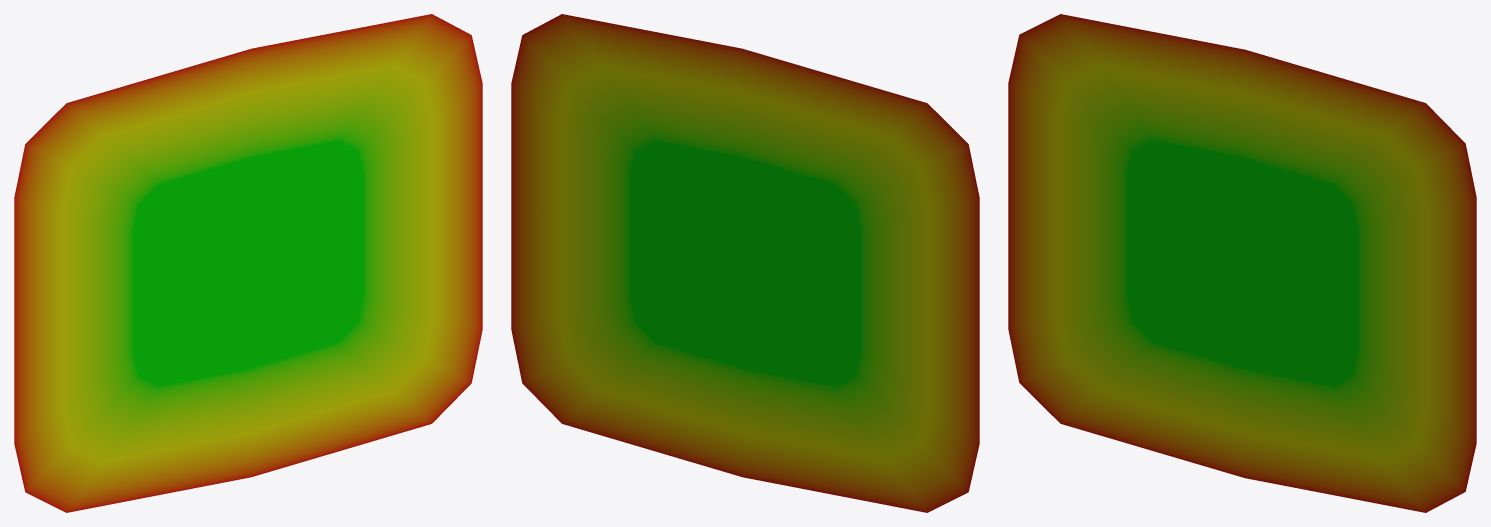
The model's file is SwimmingPoolWater.fbx.
3 views of the same model, side by side, from view 1: azimuth 30°, elevation 25°; view 2: azimuth 150°, elevation 25°; view 3: azimuth 330°, elevation 25° (orthographic).
Parts seen in each view (by area): view 1: SwimmingPoolWater; view 2: SwimmingPoolWater; view 3: SwimmingPoolWater.
Boxes of the visible parts, bbox=[...] form: SwimmingPoolWater: bbox=[14, 14, 482, 512]; SwimmingPoolWater: bbox=[511, 14, 979, 512]; SwimmingPoolWater: bbox=[1008, 14, 1476, 512].
Size of the model in its own units: 579 by 507 by 7.66e-05.
